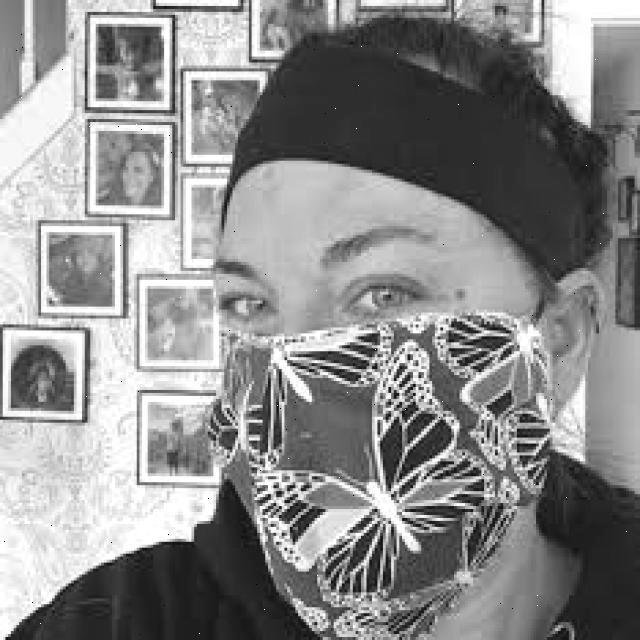fake: (198, 307, 613, 640)
real: (215, 162, 555, 640)
